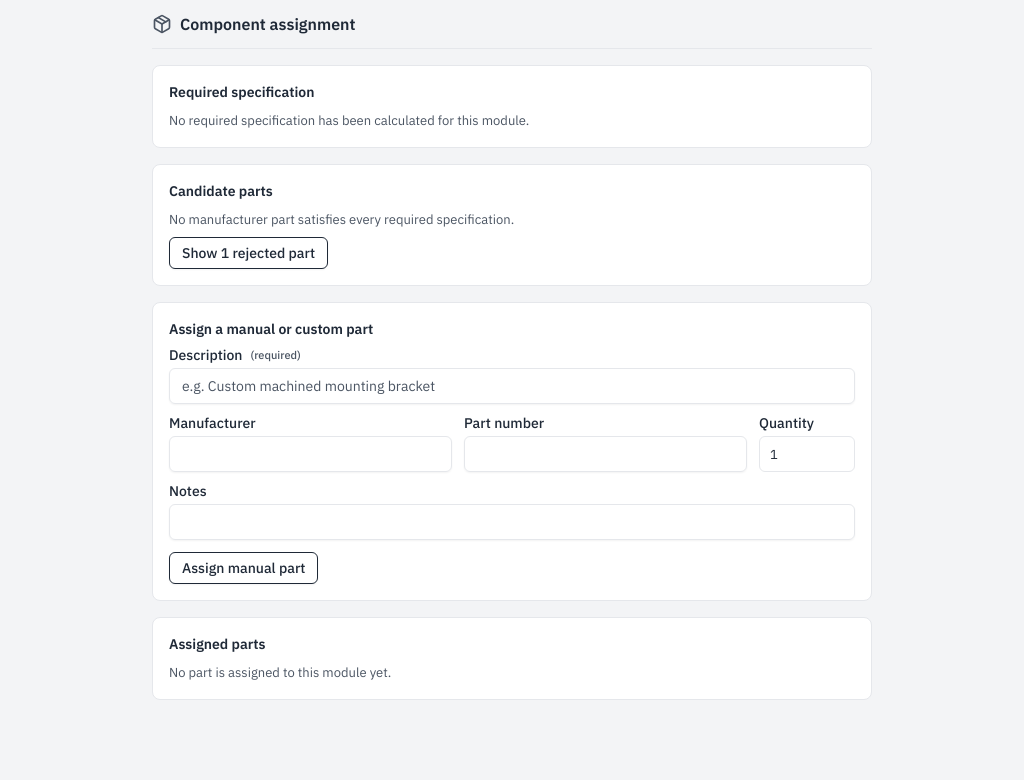
ComponentAssignmentPanel › reveals rejection reasons on demand
Expected: the text "is below the required minimum" is not shown
Click the button "Show 1 rejected part" at (249, 253), box [169, 237, 328, 269]
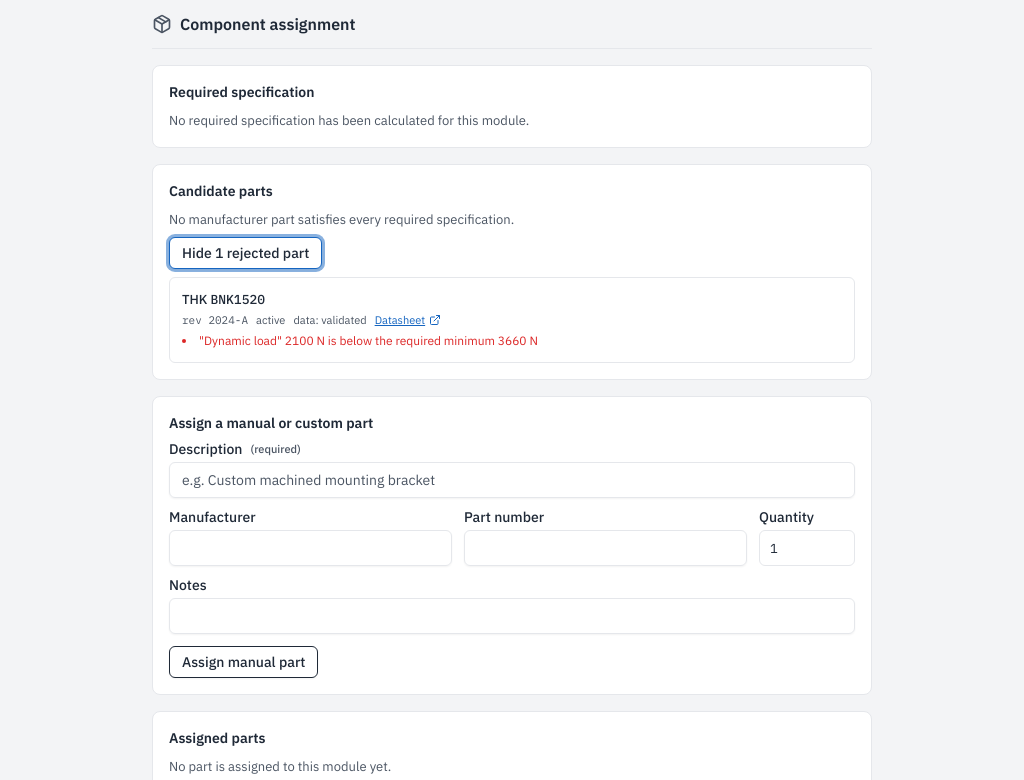
Result: the list item "\"Dynamic load\" 2100 N is below the required minimum 3660 N" is shown at [199, 333, 538, 348]
